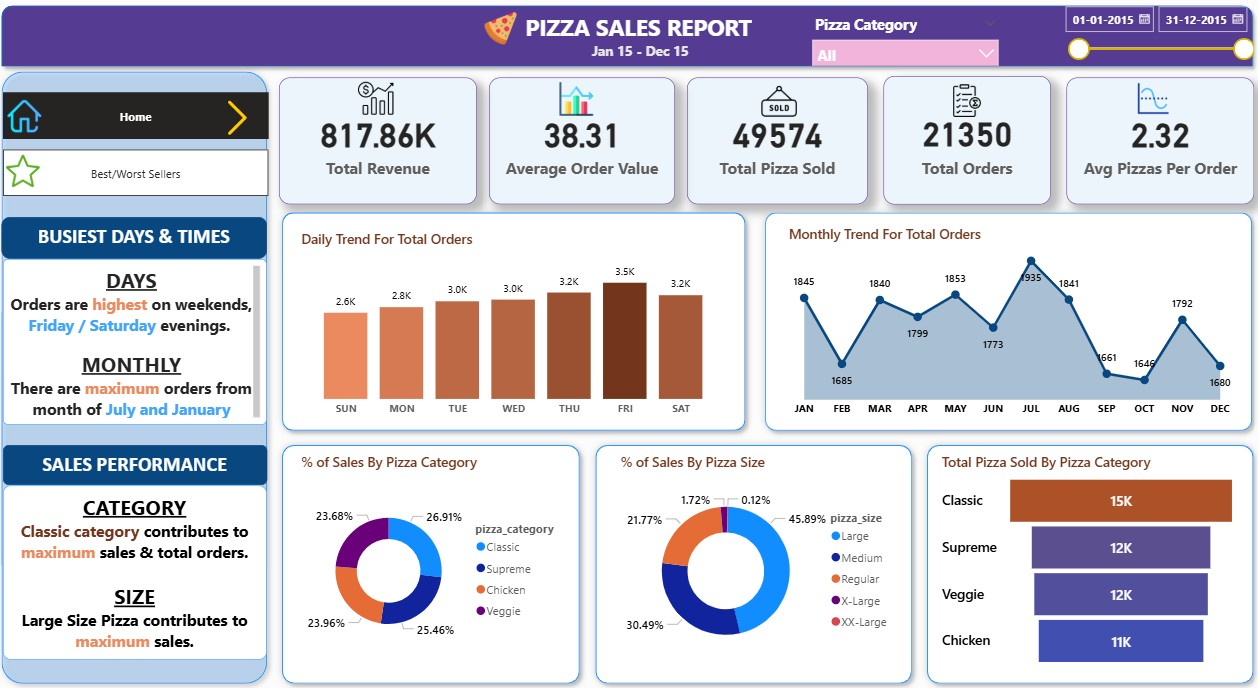

The page's visual inventory and layout, read from the dashboard file:
{"tool":"powerbi","page":{"name":"Home","canvas":[1500,820],"ordinal":0},"visuals":[{"type":"shape","box":[0,78,332,742],"z":0},{"type":"card","title":"Total Revenue","fields":{"Values":["pizza_data.Total Revenue"]},"box":[338,94,234,150],"z":1000},{"type":"card","title":"Avg Order Value","fields":{"Values":["pizza_data.Average Order Value"]},"box":[586,94,220,150],"z":2000},{"type":"card","title":"Total Pizzas Sold","fields":{"Values":["pizza_data.Total Pizza Sold"]},"box":[820,94,214,150],"z":3000},{"type":"card","title":"Total Orders","fields":{"Values":["pizza_data.Total Orders"]},"box":[1052,92,198,152],"z":4000},{"type":"card","title":"Avg Pizzas Per Order","fields":{"Values":["pizza_data.Avg Pizzas Per Order"]},"box":[1268,94,222,150],"z":5000},{"type":"shape","box":[0,0,1498,90],"z":6000},{"type":"textbox","box":[382,10,762,74],"z":7000},{"type":"textbox","box":[688,46,152,42],"z":8000},{"type":"image","box":[388,92,126,52],"z":9000},{"type":"image","box":[606,94,164,50],"z":10000},{"type":"image","box":[862,96,132,52],"z":11000},{"type":"image","box":[1088,94,126,54],"z":12000},{"type":"image","box":[1298,90,148,56],"z":13000},{"type":"image","box":[542,10,116,50],"z":14000},{"type":"shape","box":[332,244,566,276],"z":15000},{"type":"columnChart","title":"Daily Trend For Total Orders","fields":{"Category":["pizza_data.order day"],"Y":["pizza_data.Total Orders"]},"box":[358,268,512,236],"z":16000},{"type":"shape","box":[904,244,594,276],"z":17000},{"type":"areaChart","title":"Monthly Trend For Total Orders","fields":{"Category":["pizza_data.Order Month"],"Y":["pizza_data.Total Orders"]},"box":[936,268,538,236],"z":18000},{"type":"shape","box":[332,520,370,300],"z":19000},{"type":"shape","box":[702,520,392,300],"z":20000},{"type":"shape","box":[1094,520,404,300],"z":21000},{"type":"donutChart","title":"% of Sales By Pizza Category","fields":{"Category":["pizza_data.pizza_category"],"Y":["pizza_data.Total Revenue"]},"box":[358,538,316,258],"z":22000},{"type":"donutChart","title":"% of Sales By Pizza Size","fields":{"Category":["pizza_data.pizza_size"],"Y":["pizza_data.Total Revenue"]},"box":[736,538,338,258],"z":23000},{"type":"funnel","title":"Total Pizza Sold By Pizza Category","fields":{"Category":["pizza_data.pizza_category"],"Y":["Sum(pizza_data.quantity)"]},"box":[1116,538,358,258],"z":24000},{"type":"textbox","box":[8,258.7,314,49.3],"z":25000},{"type":"textbox","box":[10,308,312,196],"z":26000},{"type":"textbox","box":[10,528.8,312.5,47.5],"z":27000},{"type":"textbox","box":[10,576,312,206],"z":28000},{"type":"slicer","fields":{"Values":["pizza_data.pizza_category"]},"box":[958,14,240,66],"z":29000},{"type":"slicer","fields":{"Values":["pizza_data.order_date"]},"box":[1255,0,245,78.3],"z":30000},{"type":"pageNavigator","box":[10,112,314,55],"z":31000},{"type":"pageNavigator","box":[10,180,314,55],"z":32000},{"type":"image","box":[261.4,115,53.6,52.1],"z":33000},{"type":"image","box":[10,112,50,56],"z":34000},{"type":"image","box":[8.6,180,50,50],"z":35000}]}

Visuals, with their boxes in screenshot pixels (x1, y1, x2, y2), scaled from the page's 1500x820 canvas onto the 1258x688 screenshot:
shape: (0, 65, 278, 687)
"Total Revenue" card: (283, 79, 480, 205)
"Avg Order Value" card: (491, 79, 676, 205)
"Total Pizzas Sold" card: (688, 79, 867, 205)
"Total Orders" card: (882, 77, 1048, 205)
"Avg Pizzas Per Order" card: (1063, 79, 1250, 205)
shape: (0, 0, 1256, 76)
textbox: (320, 8, 959, 70)
textbox: (577, 39, 704, 74)
image: (325, 77, 431, 121)
image: (508, 79, 646, 121)
image: (723, 81, 834, 124)
image: (912, 79, 1018, 124)
image: (1089, 76, 1213, 122)
image: (455, 8, 552, 50)
shape: (278, 205, 753, 436)
"Daily Trend For Total Orders" columnChart: (300, 225, 730, 423)
shape: (758, 205, 1256, 436)
"Monthly Trend For Total Orders" areaChart: (785, 225, 1236, 423)
shape: (278, 436, 589, 687)
shape: (589, 436, 918, 687)
shape: (918, 436, 1256, 687)
"% of Sales By Pizza Category" donutChart: (300, 451, 565, 668)
"% of Sales By Pizza Size" donutChart: (617, 451, 901, 668)
"Total Pizza Sold By Pizza Category" funnel: (936, 451, 1236, 668)
textbox: (7, 217, 270, 258)
textbox: (8, 258, 270, 423)
textbox: (8, 444, 270, 484)
textbox: (8, 483, 270, 656)
slicer - pizza_data.pizza_category: (803, 12, 1005, 67)
slicer - pizza_data.order_date: (1053, 0, 1257, 66)
pageNavigator: (8, 94, 272, 140)
pageNavigator: (8, 151, 272, 197)
image: (219, 96, 264, 140)
image: (8, 94, 50, 141)
image: (7, 151, 49, 193)
